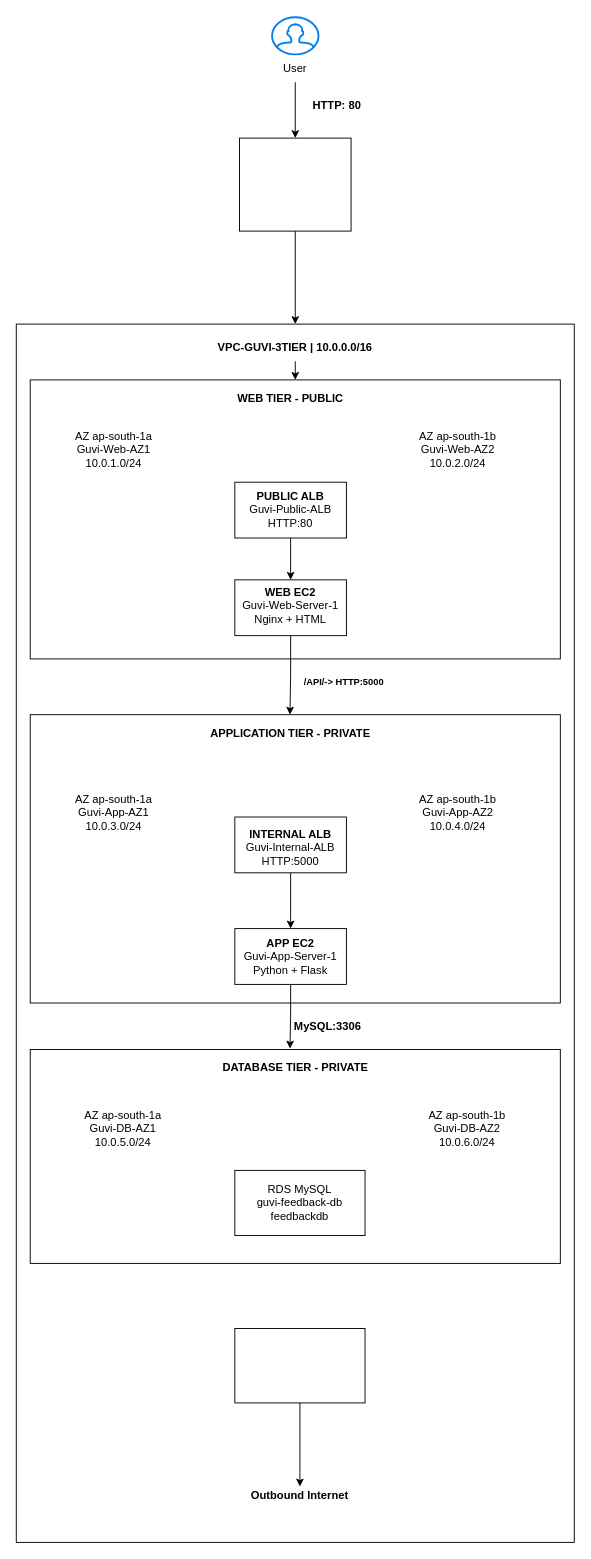
Image size: 591x1559. Some labels were removed from this diagram. The centre of each missing label's shape, as x and y in pixels:
"Internet Gateway GUVI-3Tier-IGW" belongs at (295,184).
"NAT GATEWAY Guvi-NAT-GATEWAY" belongs at (299,1365).
